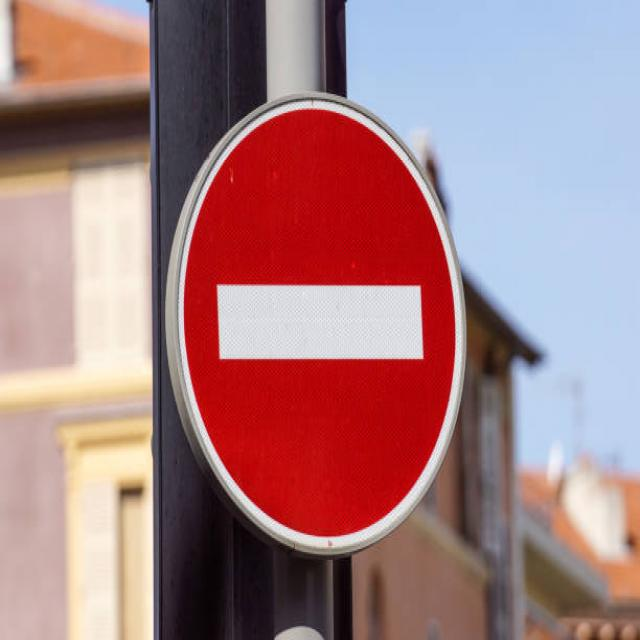do_not_enter: (173, 87, 474, 554)
